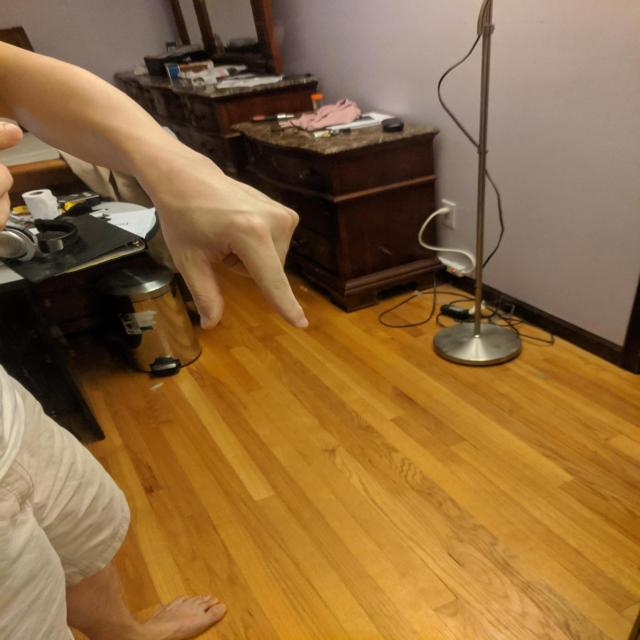Q: (152, 170, 314, 334)
